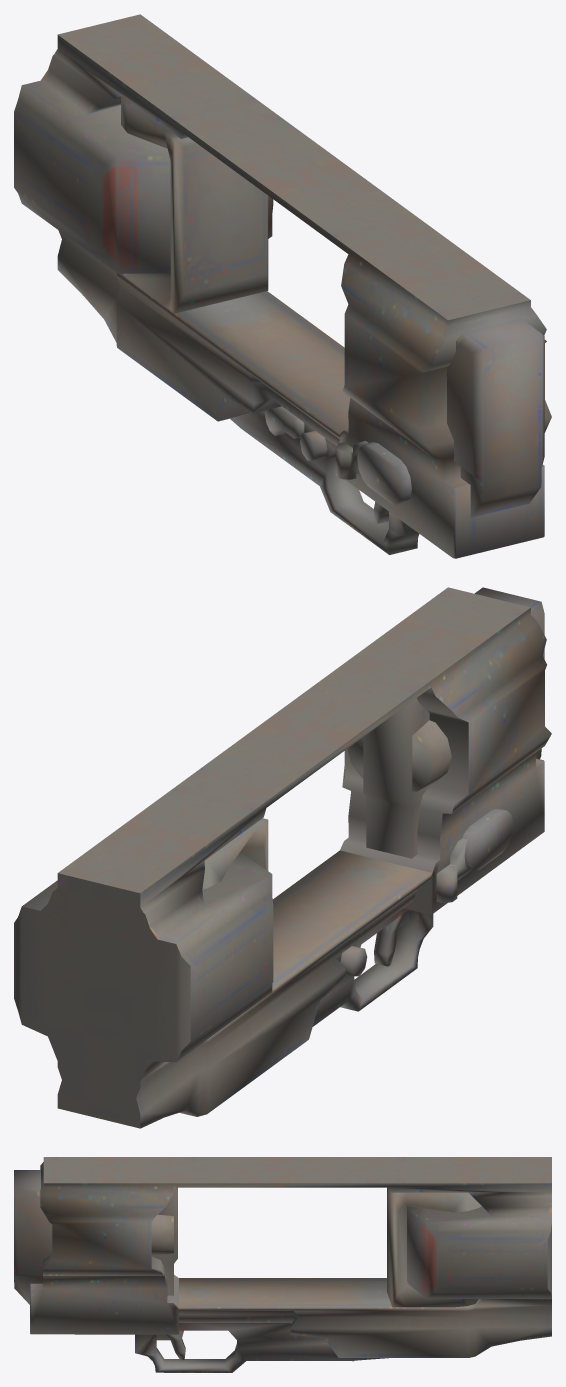
File: body4.obj
The picture shows the model from 3 angles, top to bottom: view 1: azimuth 30°, elevation 25°; view 2: azimuth 150°, elevation 25°; view 3: azimuth 270°, elevation 25°; orthographic projection. The views are drawn at different scales.
Visible parts, largest first — view 1: body4; view 2: body4; view 3: body4.
Part boxes in pixels (x1,y1,x2,y2): body4: [14, 14, 551, 558]; body4: [14, 587, 551, 1128]; body4: [14, 1157, 551, 1372].
Bounding box in the file's own units: 7.54 × 12.38 × 30.44.
